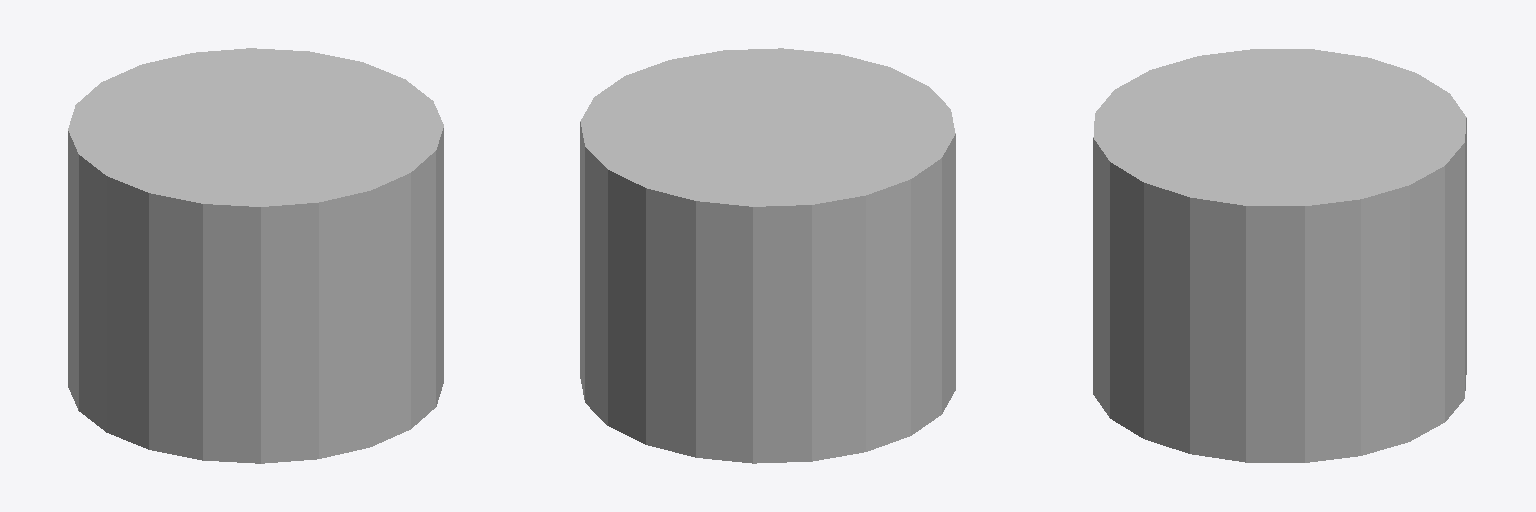
File: Resaltado_Nervio_supraclavicular_I_3.obj
The picture shows the model from 3 angles: view 1: azimuth 30°, elevation 25°; view 2: azimuth 150°, elevation 25°; view 3: azimuth 270°, elevation 25°; orthographic projection.
Parts seen in each view (by area): view 1: polySurface19 Marcadores1; view 2: polySurface19 Marcadores1; view 3: polySurface19 Marcadores1.
Boxes of the visible parts, x1,y1,x2,y2 form: polySurface19 Marcadores1: [68, 48, 443, 463]; polySurface19 Marcadores1: [580, 48, 955, 463]; polySurface19 Marcadores1: [1093, 49, 1466, 462].
Bounding box in the file's own units: 0.0277 × 0.021 × 0.0277.